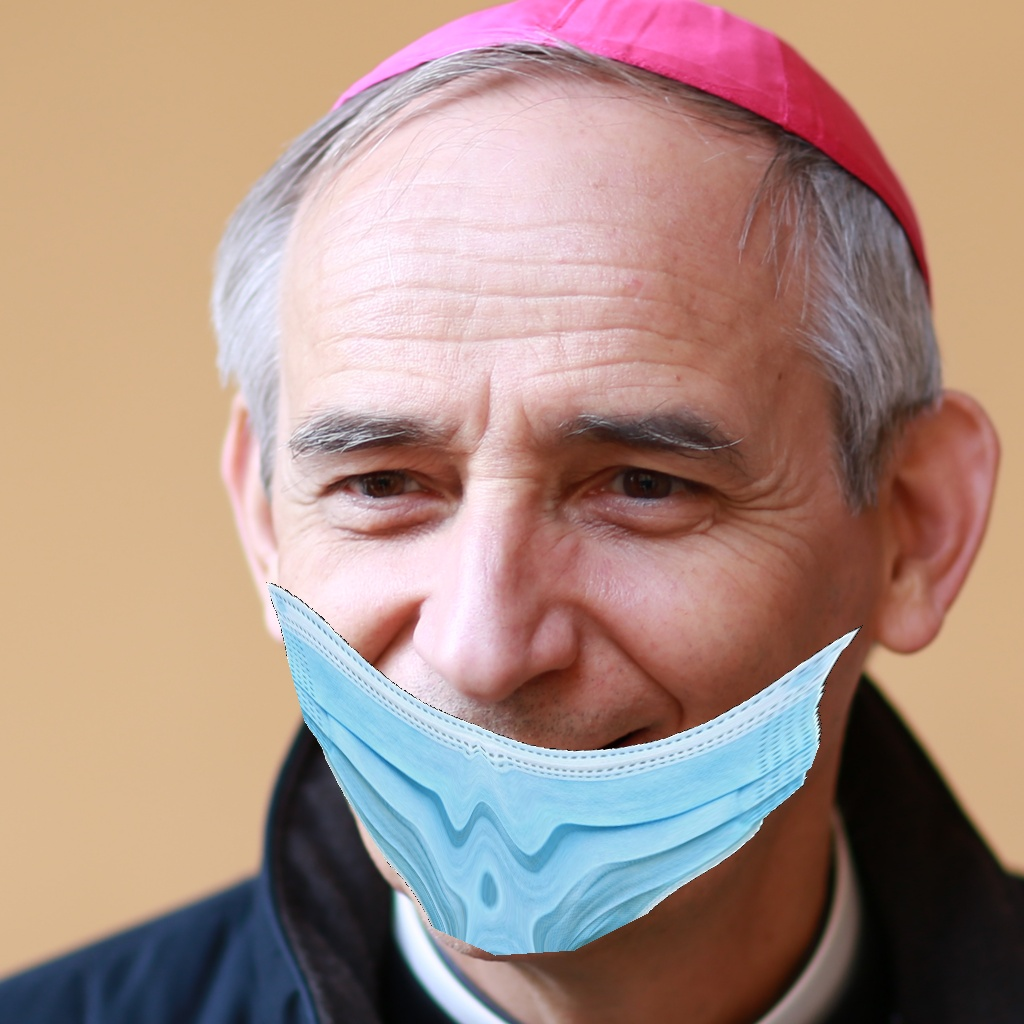mascarilla_mal_puesta: (222, 343, 874, 958)
